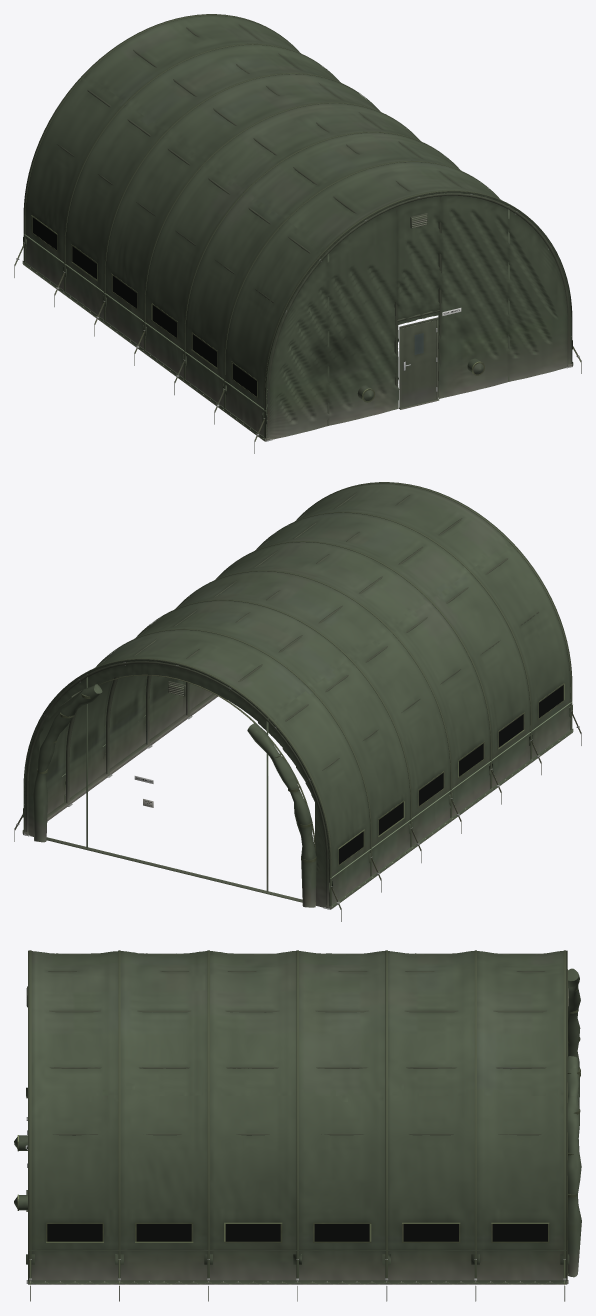
Rendered from mex26-ar.glb.
3 views of the same model, one above another, from view 1: azimuth 30°, elevation 25°; view 2: azimuth 150°, elevation 25°; view 3: azimuth 270°, elevation 25° (orthographic). The views are drawn at different scales.
Visible parts, largest first — view 1: MEX26_shelter, MEX26_purlins, MEX26_frame; view 2: MEX26_shelter, MEX26_frame, MEX26_purlins; view 3: MEX26_shelter, MEX26_purlins.
Part boxes in pixels (<box>): MEX26_shelter: <box>14,14,581,453</box>; MEX26_purlins: <box>57,24,551,408</box>; MEX26_frame: <box>266,193,572,441</box>; MEX26_shelter: <box>14,482,581,921</box>; MEX26_frame: <box>23,661,329,909</box>; MEX26_purlins: <box>44,492,538,780</box>; MEX26_shelter: <box>14,950,581,1301</box>; MEX26_purlins: <box>48,953,546,1135</box>.
Size of the model in its own units: 8.66 by 5.53 by 11.67.
Materials: 16 (8 with a texture image).
